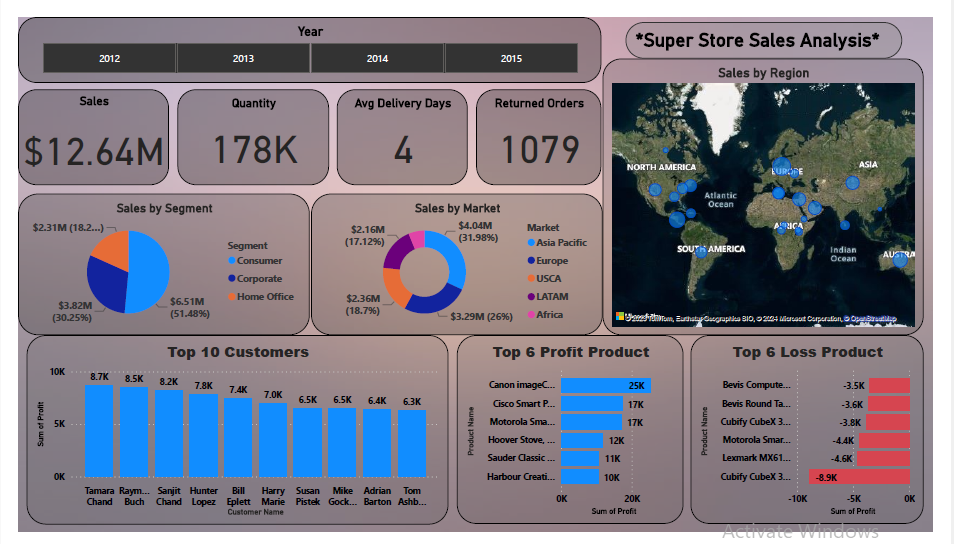

This screenshot's page, from the dashboard's own definition file:
{"tool":"powerbi","page":{"name":"Page 1","canvas":[1280,720],"ordinal":0},"visuals":[{"type":"card","title":"Sales","fields":{"Values":["Orders.Sales"]},"box":[0,100.6,211.2,134.6],"z":0},{"type":"card","title":"Quantity","fields":{"Values":["Orders.Quantity"]},"box":[222.5,100.6,212.6,134.6],"z":1000},{"type":"card","title":"Avg Delivery Days","fields":{"Values":["Orders.Delivery Days"]},"box":[446.5,100.6,182.8,134.6],"z":2000},{"type":"slicer","title":"Year","fields":{"Values":["Orders.Year"]},"box":[0,0,816.4,92.1],"z":3000},{"type":"card","title":"Returned Orders","fields":{"Values":["Returns.Returned Orders"]},"box":[640.6,100.6,175.7,134.6],"z":4000},{"type":"map","title":" Sales by Region","fields":{"Size":["Orders.Sales"],"Category":["Orders.Region"]},"box":[817.8,15.6,449.3,429.4],"z":5000},{"type":"barChart","title":" Top 6 Loss Product","fields":{"Y":["Orders.Profit"],"Category":["Orders.Product Name"]},"box":[941.1,445,326,263.6],"z":6000},{"type":"pieChart","title":"Sales by Segment","fields":{"Category":["Orders.Segment"],"Y":["Orders.Sales"]},"box":[0,246.6,408.2,198.4],"z":7000},{"type":"donutChart","title":"Sales by Market","fields":{"Y":["Orders.Sales"],"Category":["Orders.Market"]},"box":[409.6,246.6,408.2,198.4],"z":8000},{"type":"barChart","title":" Top 6 Profit Product","fields":{"Y":["Orders.Profit"],"Category":["Orders.Product Name"]},"box":[613.7,445,317.5,263.6],"z":9000},{"type":"columnChart","title":" Top 10 Customers","fields":{"Category":["Orders.Customer Name"],"Y":["Orders.Profit"]},"box":[11.3,445,591,265],"z":10000}]}

Visuals, with their boxes in screenshot pixels (x1, y1, x2, y2):
"Sales" card: (15,86,165,182)
"Quantity" card: (173,86,323,182)
"Avg Delivery Days" card: (331,86,461,182)
"Year" slicer: (15,15,594,80)
"Returned Orders" card: (469,86,594,182)
" Sales by Region" map: (595,26,913,330)
" Top 6 Loss Product" barChart: (682,330,913,517)
"Sales by Segment" pieChart: (15,190,304,330)
"Sales by Market" donutChart: (305,190,595,330)
" Top 6 Profit Product" barChart: (450,330,675,517)
" Top 10 Customers" columnChart: (23,330,442,518)
